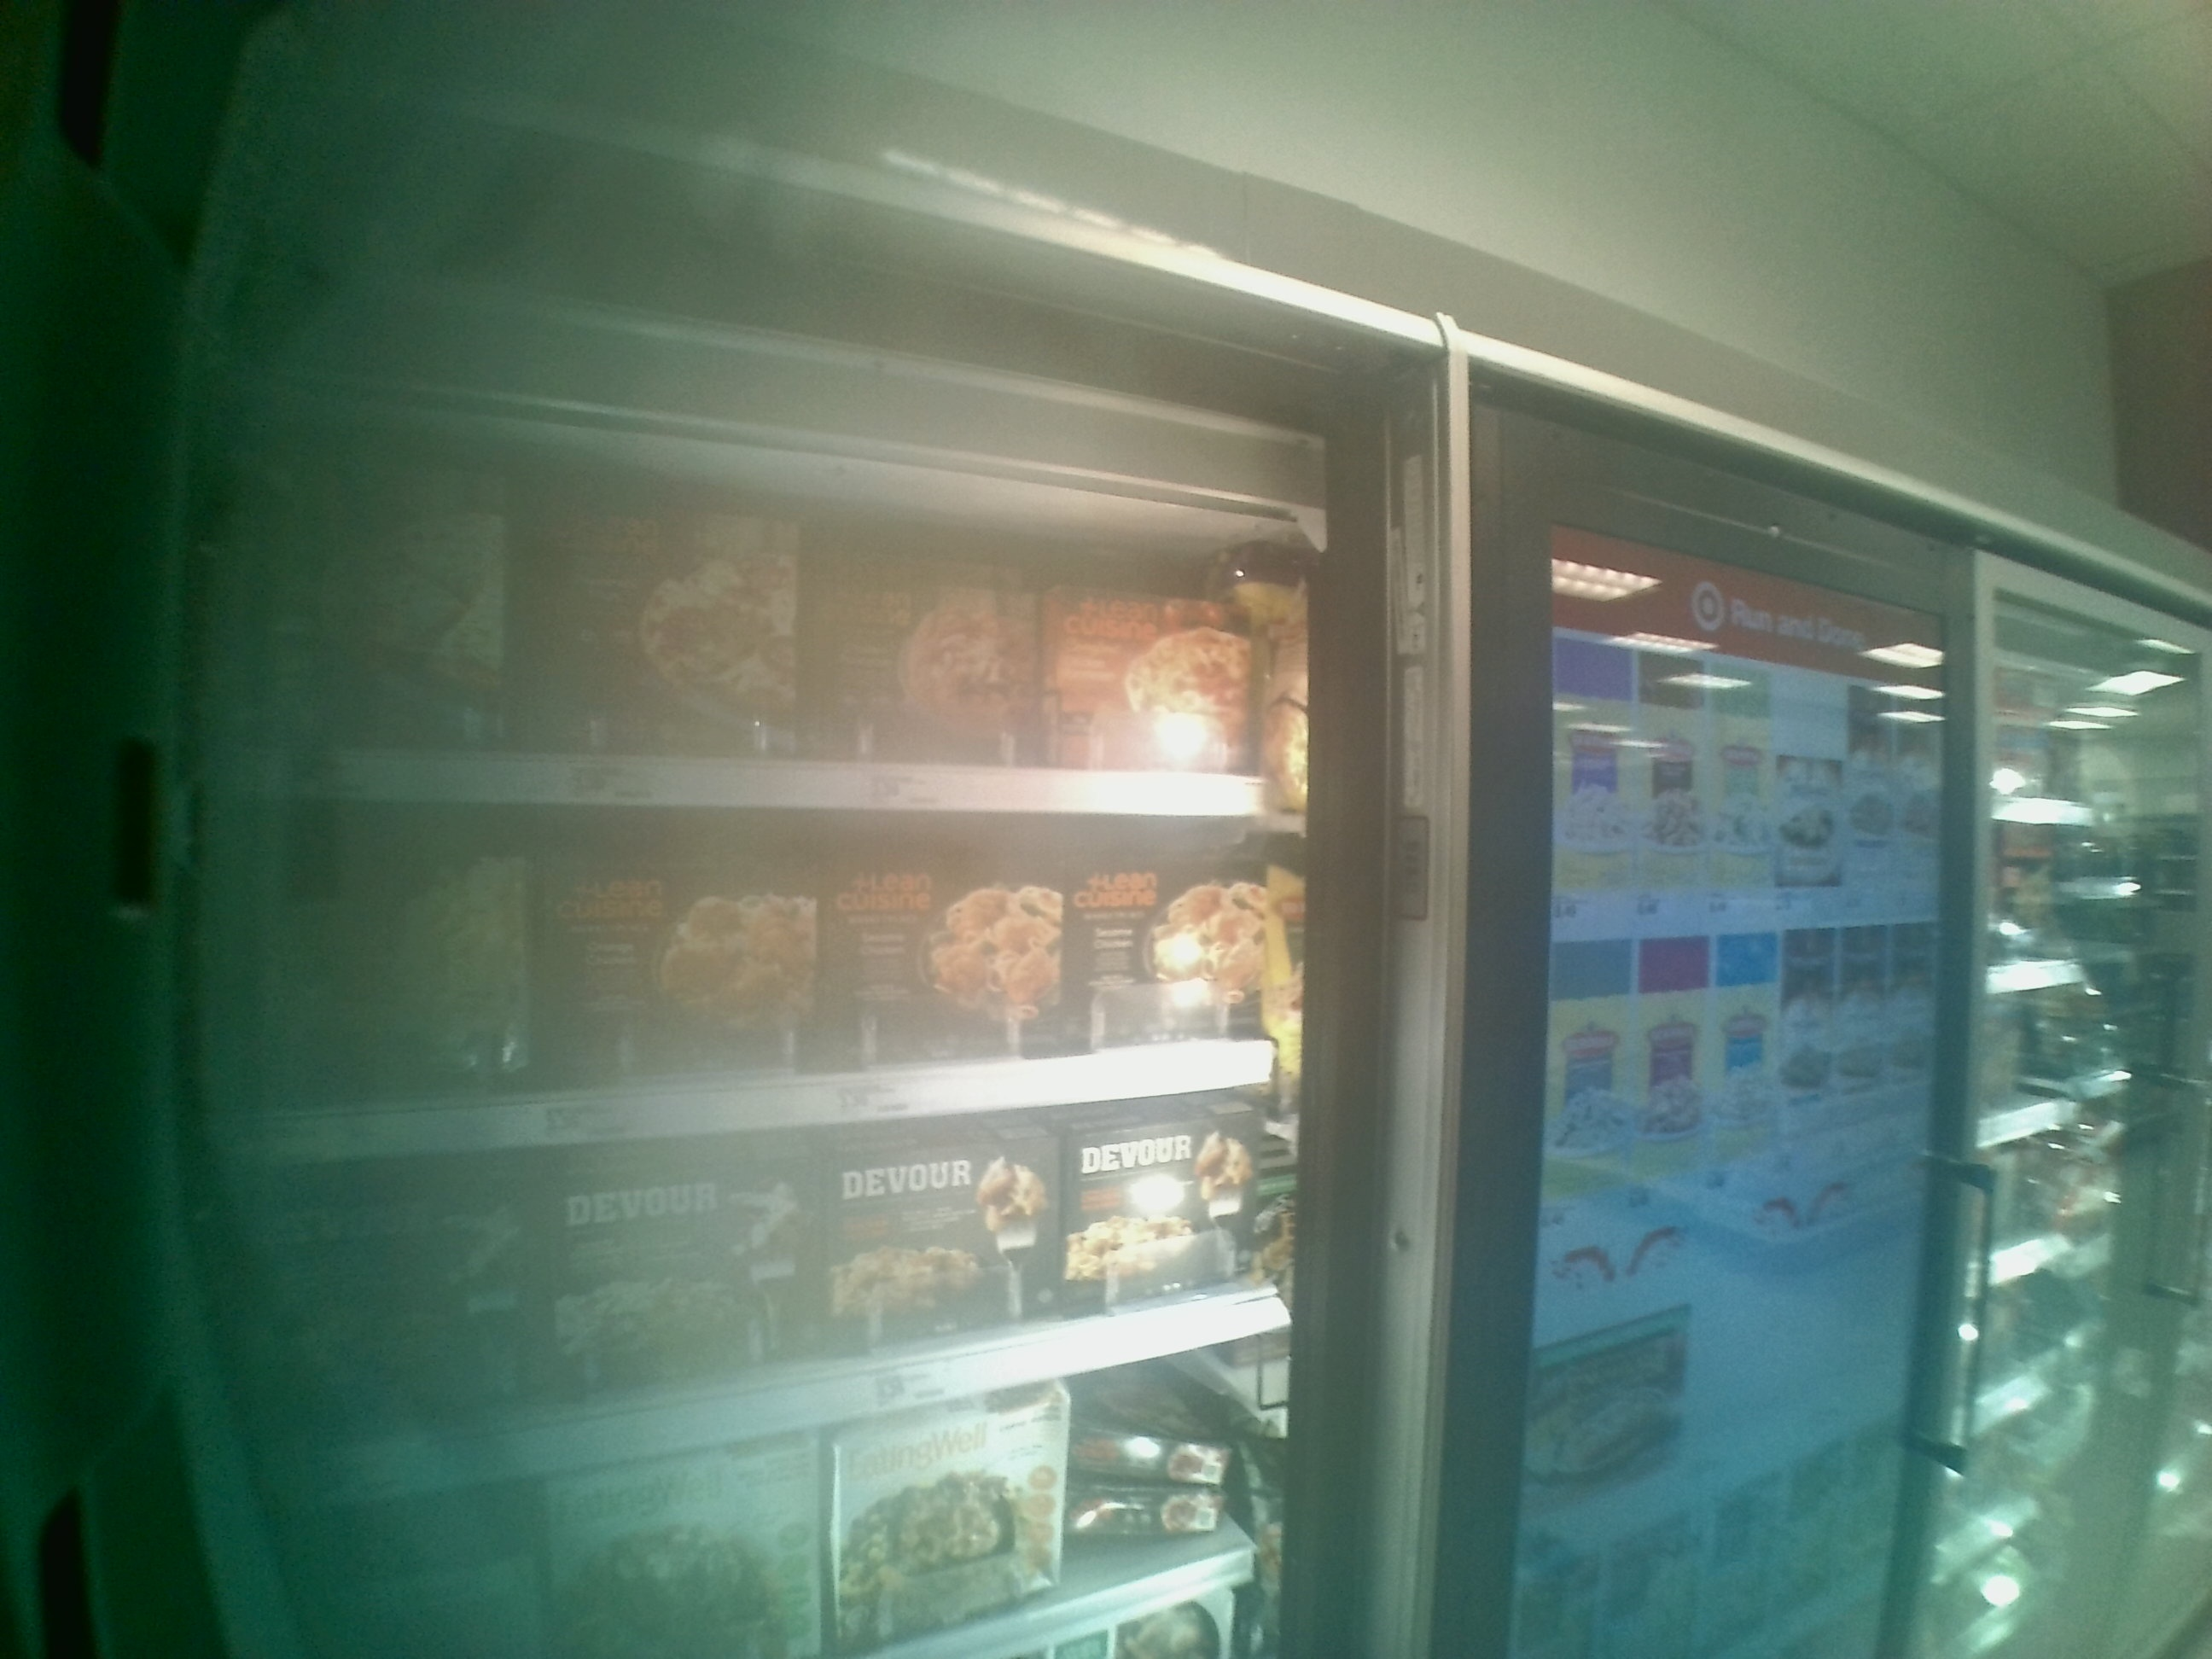shelf: (251, 368, 1308, 814), (240, 803, 1310, 1171)
